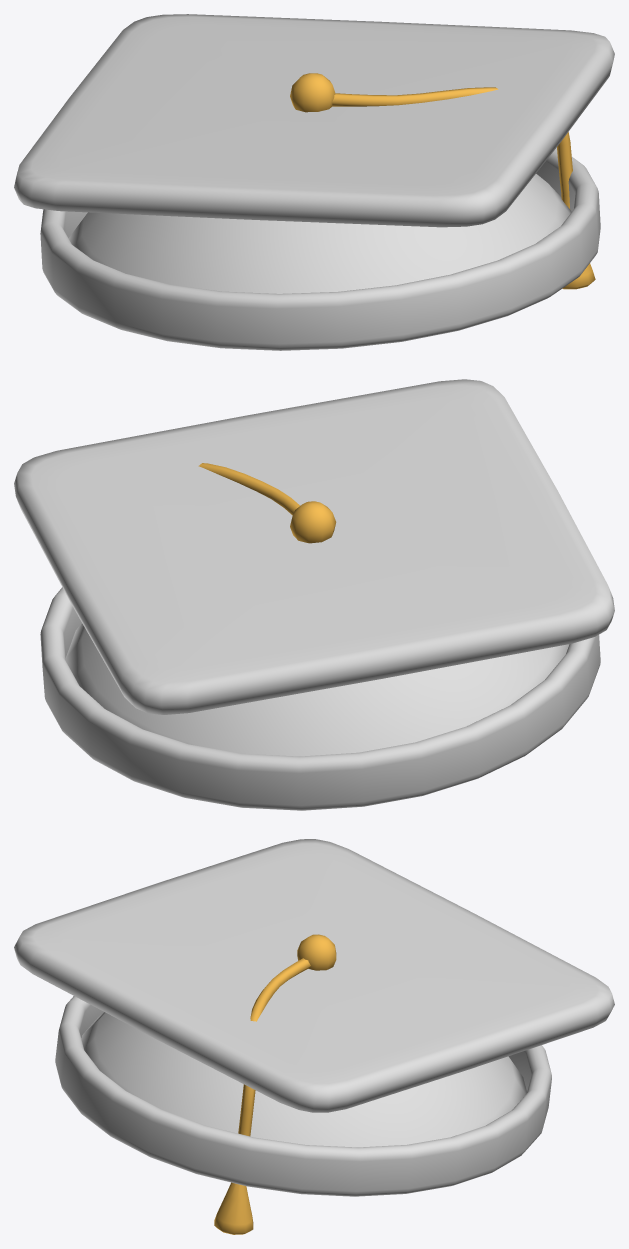
File: graduation_cap.glb
The picture shows the model from 3 angles, top to bottom: view 1: azimuth 30°, elevation 25°; view 2: azimuth 150°, elevation 25°; view 3: azimuth 270°, elevation 25°; orthographic projection. The views are drawn at different scales.
Visible parts, largest first — view 1: graduation_cap; view 2: graduation_cap; view 3: graduation_cap.
Part boxes in pixels (bbox=[...]): graduation_cap: bbox=[14, 14, 614, 350]; graduation_cap: bbox=[14, 379, 614, 810]; graduation_cap: bbox=[14, 839, 614, 1234].
Bounding box in the file's own units: 1.17 × 0.429 × 1.16.
